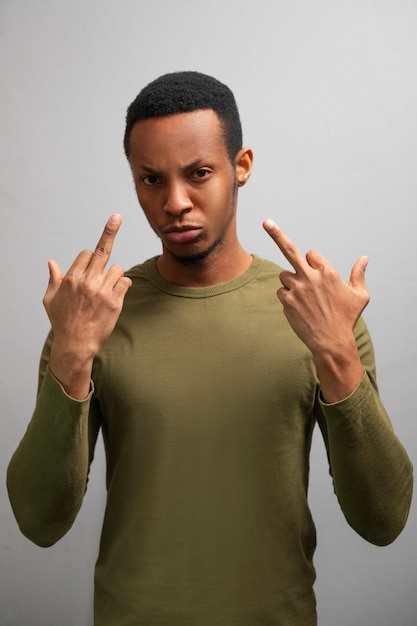insulting_gesture: (259, 219, 374, 354), (42, 211, 138, 350)
